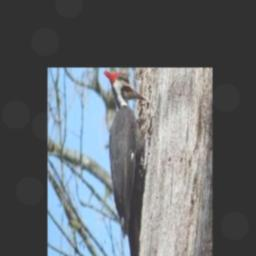Woodpecker: (103, 70, 147, 237)
